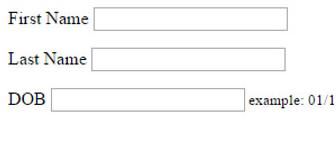field: (88, 46, 287, 72), (90, 7, 290, 31), (49, 87, 246, 111)
field_with_label: (8, 44, 288, 75), (6, 5, 292, 33), (6, 85, 248, 113)
